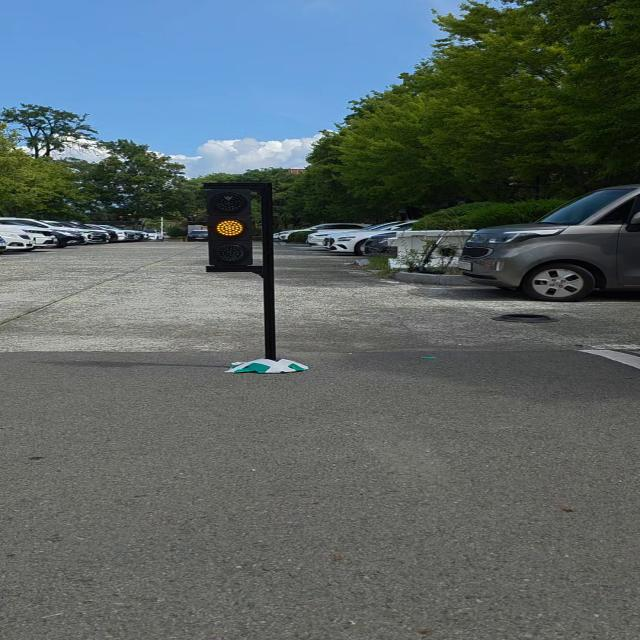yellow: (206, 189, 256, 271)
